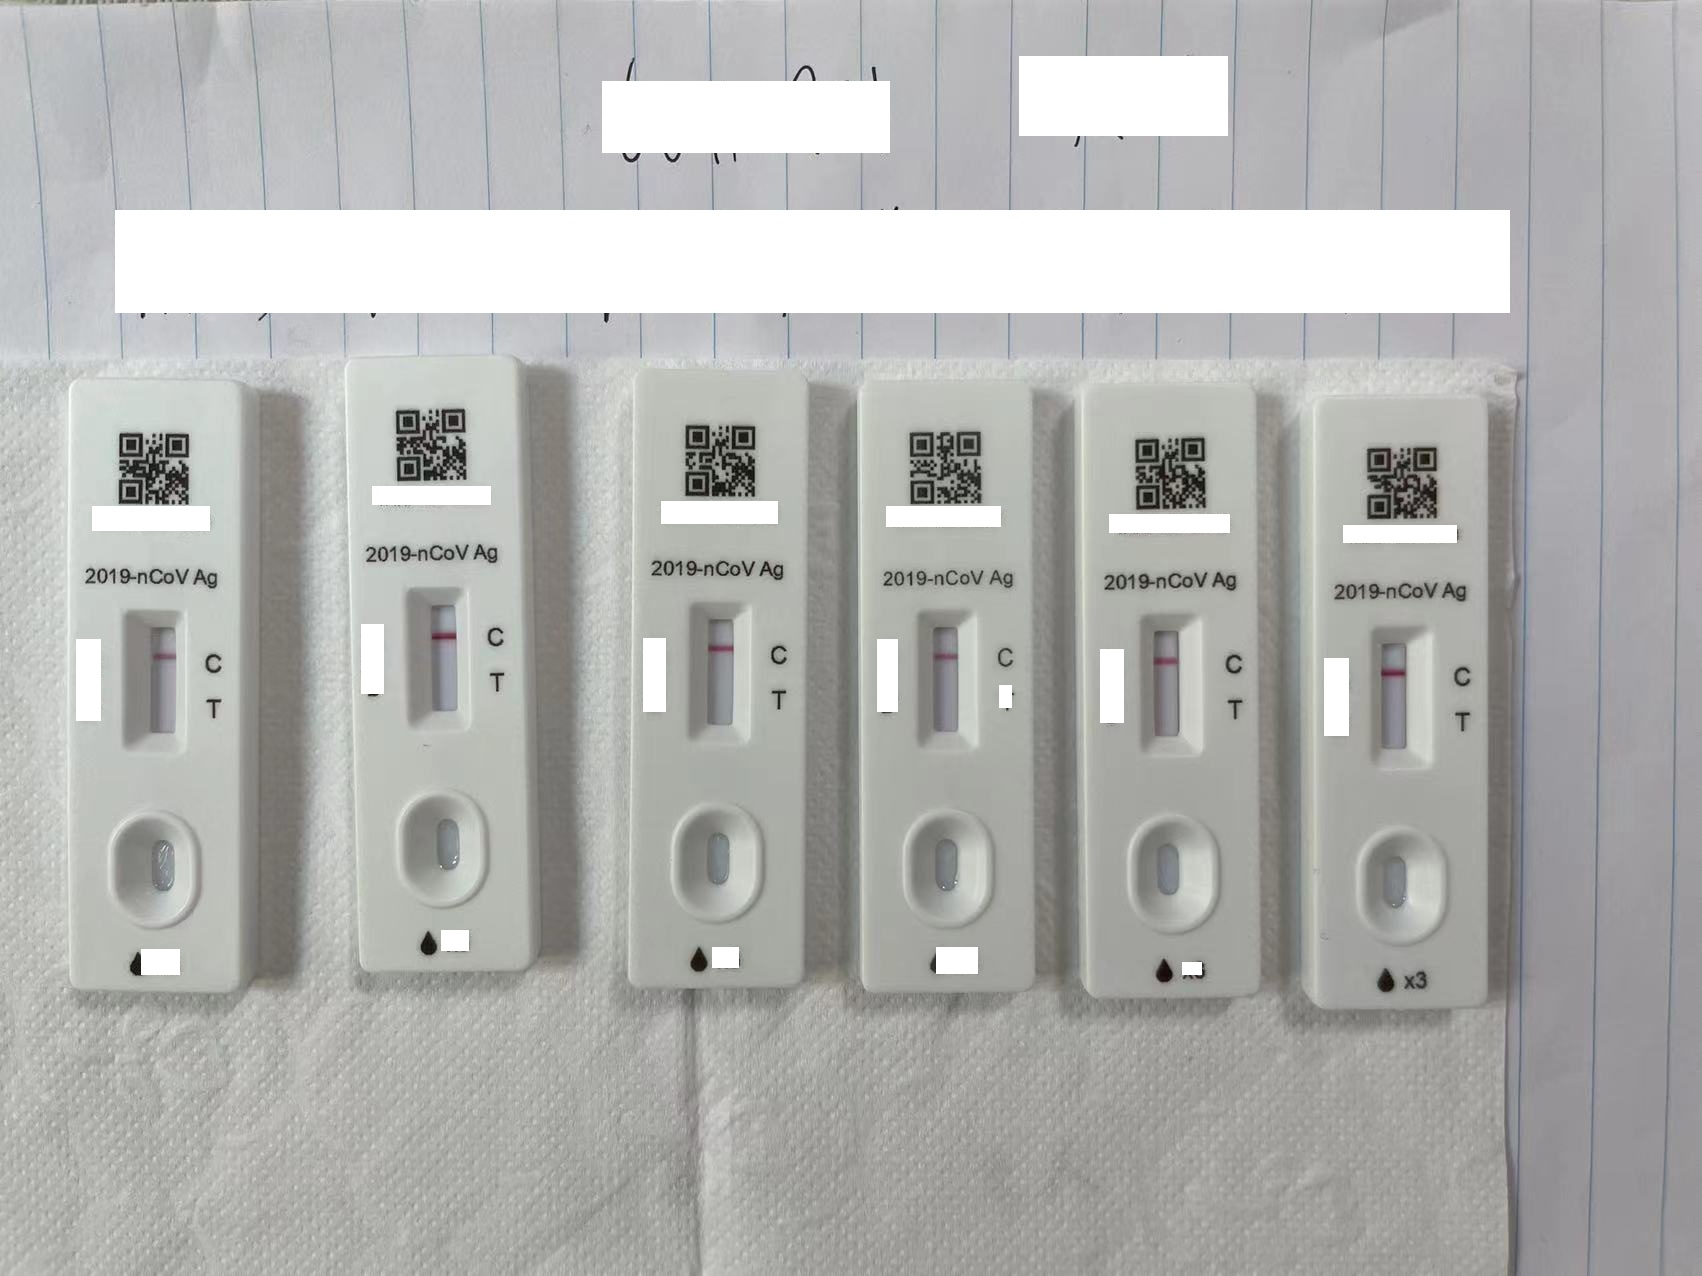negative: (686, 598, 750, 744), (121, 610, 185, 755), (405, 586, 466, 726), (917, 607, 974, 755), (1370, 622, 1429, 764), (1140, 613, 1199, 755)
